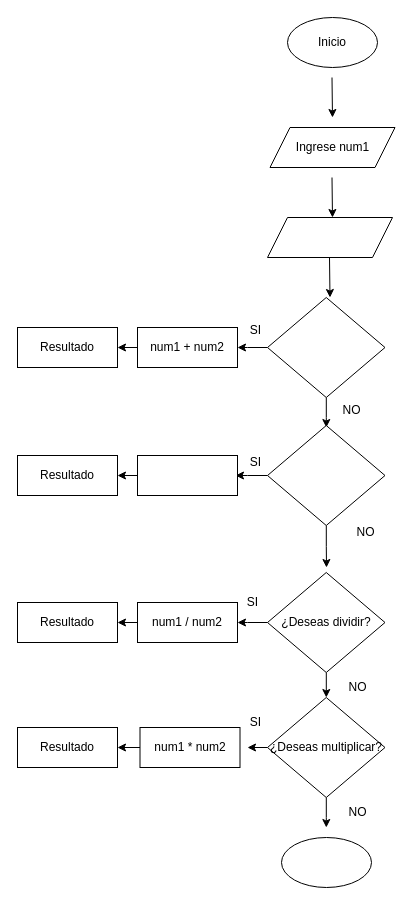
Some shapes in this 413 by 905 pixel diagram are drawn without their labels. The centre of each missing label's shape, as x and y in pixels:
Fin: point (326, 862)
Ingrese num2: point (329, 237)
num1 - num2: point (187, 475)
¿Deseas restar?: point (325, 475)
¿Deseas sumar?: point (325, 347)
